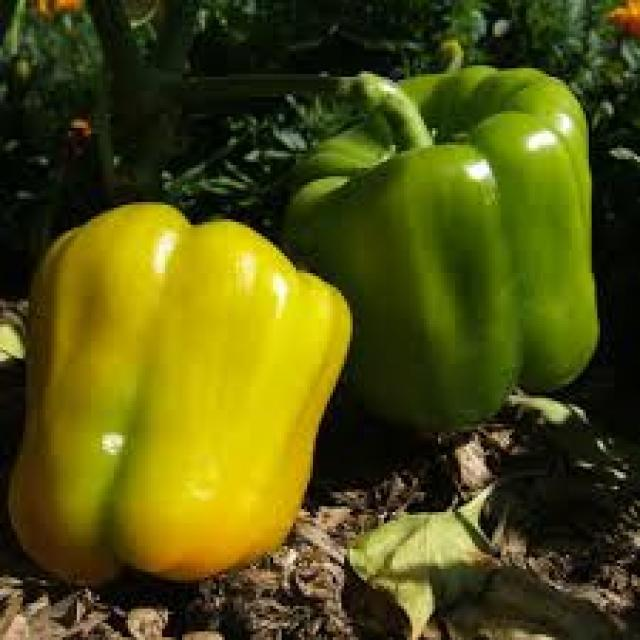Pepper: (7, 202, 354, 591), (282, 67, 598, 434)
